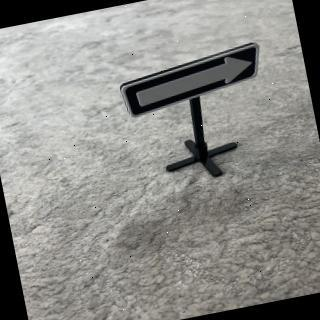sign_oneway_right: (117, 42, 271, 122)
